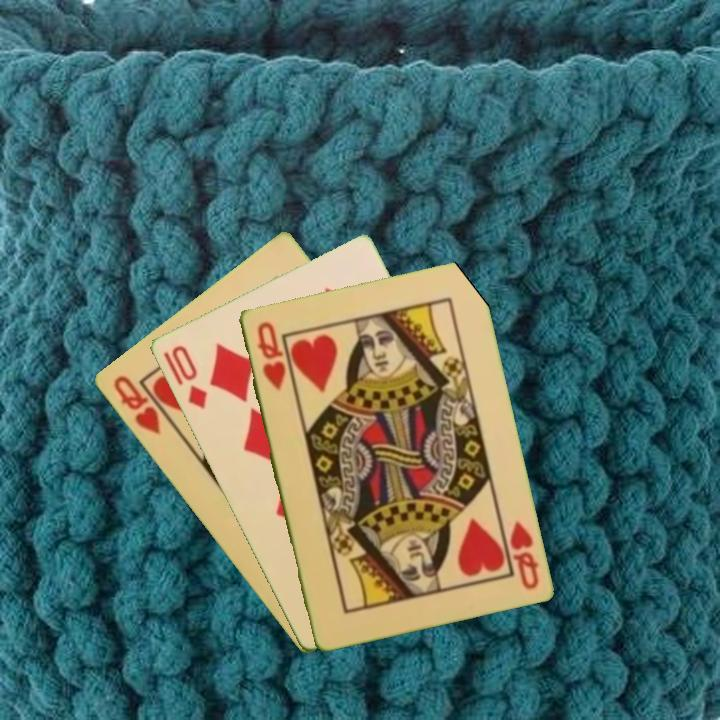10d: (159, 341, 210, 412)
Qh: (109, 371, 163, 438), (497, 514, 541, 592), (253, 317, 288, 393)
